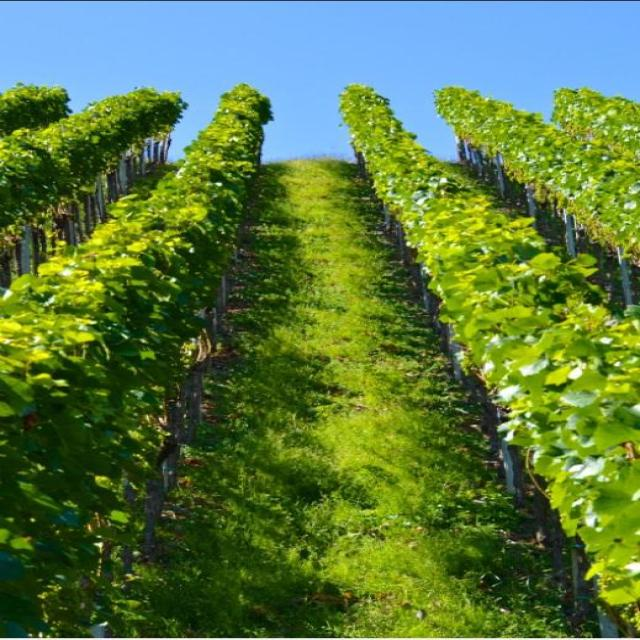row: (111, 155, 613, 639)
